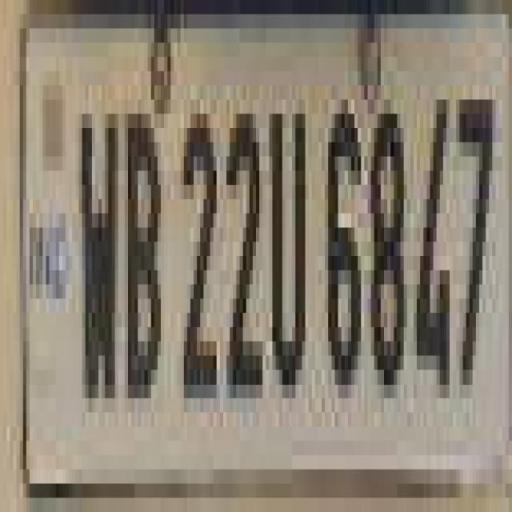number plate: (13, 0, 511, 483)
